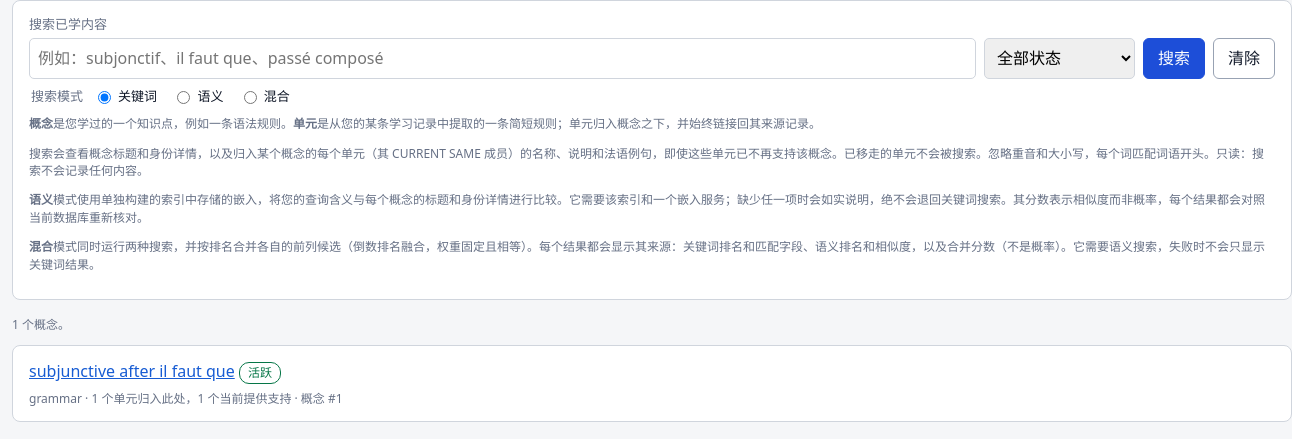
Test case: data boundaries › never translates learner content, French examples, provenance or raw server errors
Check: the text "1 个概念。" is shown, box [12,316,70,333]
Check: the text "grammar · 1 个单元归入此处，1 个当前提供支持 · 概念 #1" is shown, box [29,390,343,407]
Step 1. Click the button "subjunctive after il faut que" → (132, 372), box [29,360,235,384]
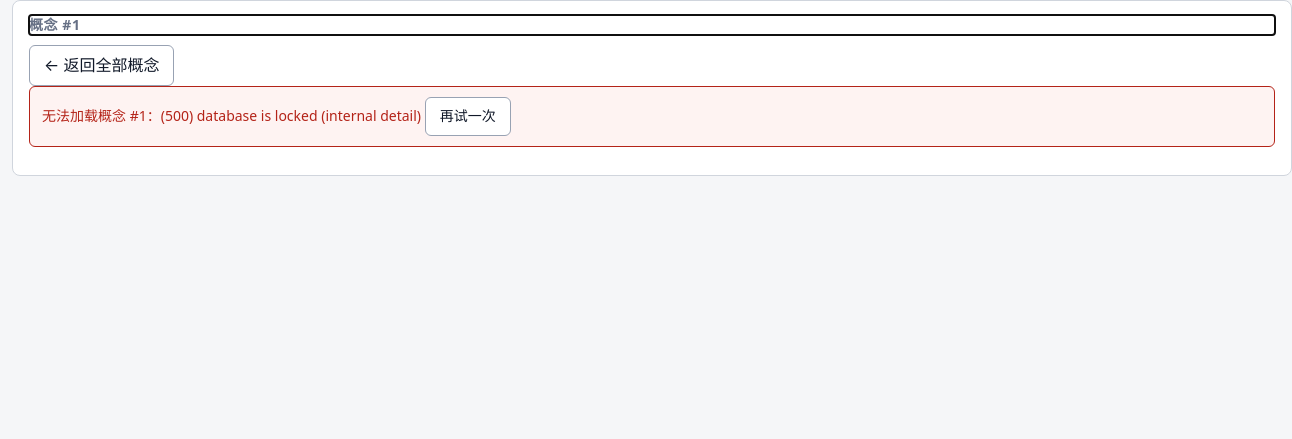
Check: the message shows "无法加载概念 #1：(500) database is locked (internal detail)", box [42,106,421,126]
